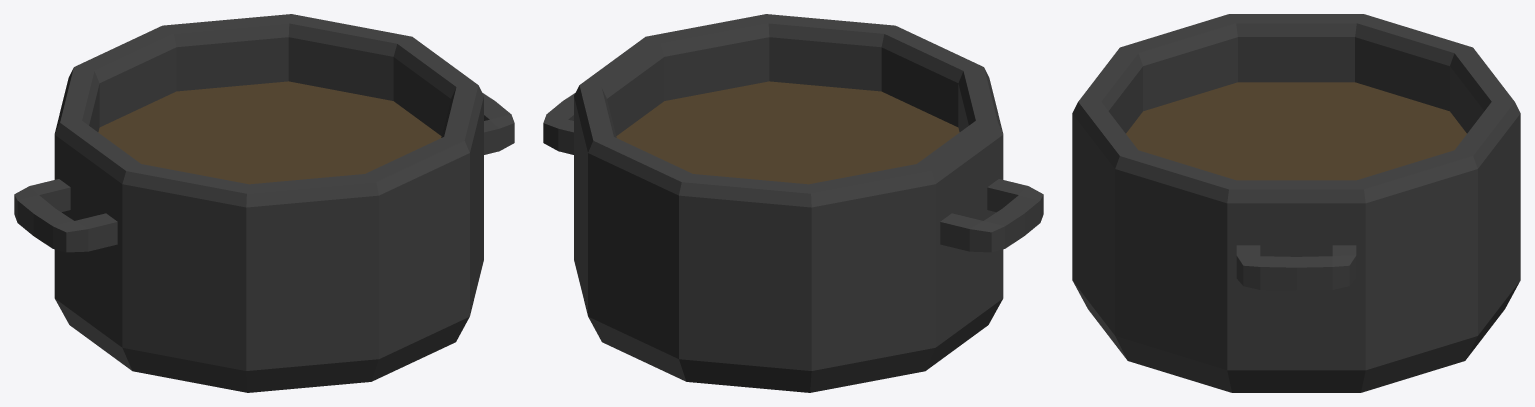
The model's file is pot_soup.glb.
3 renders of one model, left to right at view 1: azimuth 30°, elevation 25°; view 2: azimuth 150°, elevation 25°; view 3: azimuth 270°, elevation 25°, orthographic. The views are drawn at different scales.
Visible parts, largest first — view 1: pot_soup; view 2: pot_soup; view 3: pot_soup.
Boxes of the visible parts, bbox=[...] form: pot_soup: bbox=[14, 14, 514, 392]; pot_soup: bbox=[543, 14, 1043, 392]; pot_soup: bbox=[1072, 14, 1520, 392].
Bounding box in the file's own units: 0.32 × 0.1424 × 0.2637.
